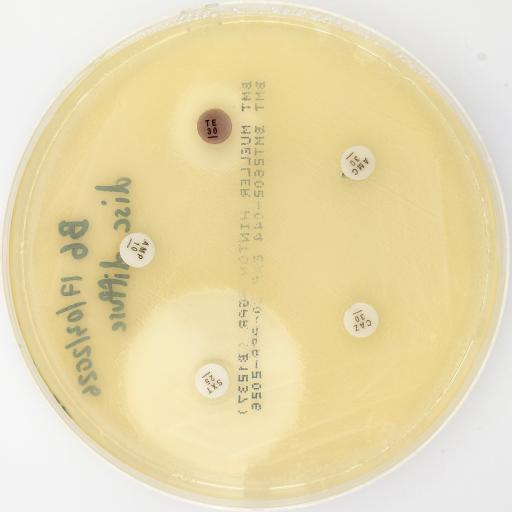disc: (339, 145, 376, 182), (194, 362, 230, 400), (342, 302, 379, 338), (119, 232, 155, 269), (196, 108, 232, 144)
